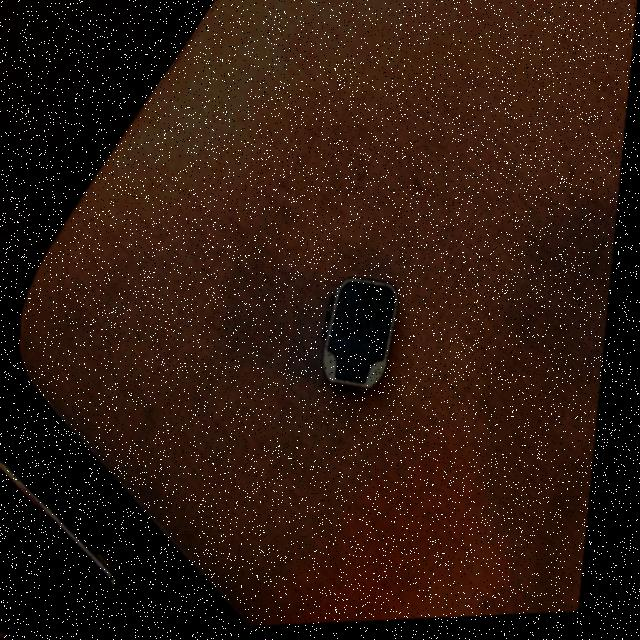adapter: (323, 278, 406, 397)
